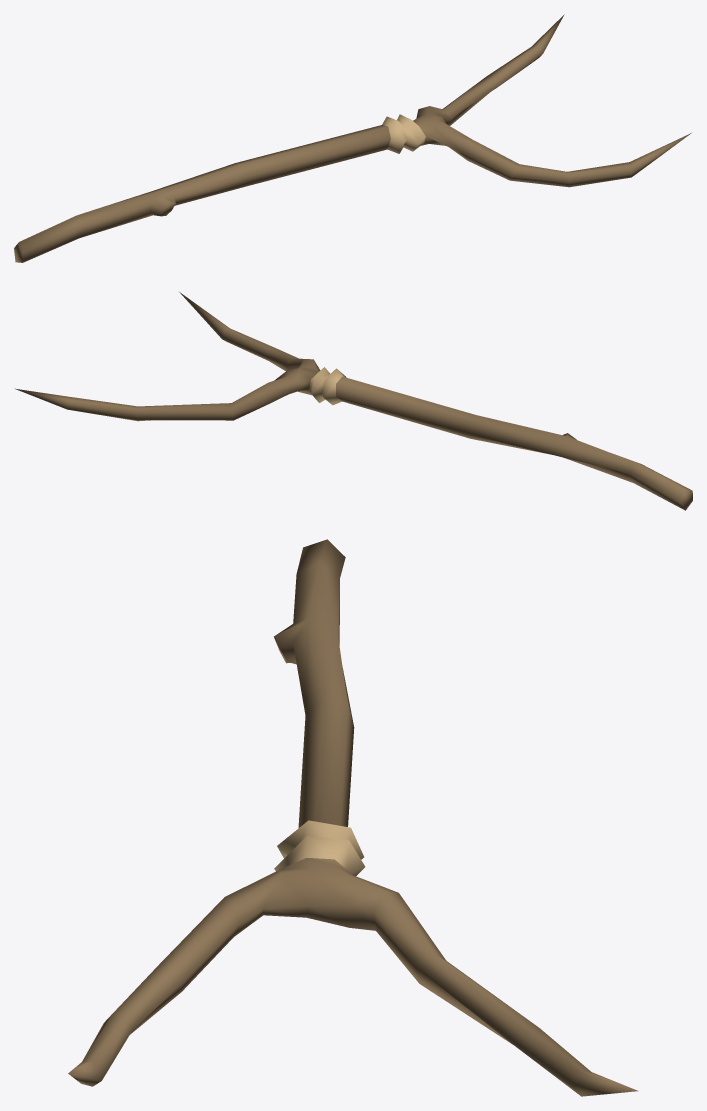
The model's file is rpgpp_ag_pitchfork_01.fbx.
3 views of the same model, one above another, from view 1: azimuth 30°, elevation 25°; view 2: azimuth 150°, elevation 25°; view 3: azimuth 270°, elevation 25° (orthographic). The views are drawn at different scales.
Parts seen in each view (by area): view 1: rpgpp_ag_pitchfork_01; view 2: rpgpp_ag_pitchfork_01; view 3: rpgpp_ag_pitchfork_01.
Boxes of the visible parts, <box> form: rpgpp_ag_pitchfork_01: <box>14,14,691,262</box>; rpgpp_ag_pitchfork_01: <box>15,292,692,510</box>; rpgpp_ag_pitchfork_01: <box>68,539,638,1096</box>.
Size of the model in its own units: 1.13 by 0.0987 by 0.468.
